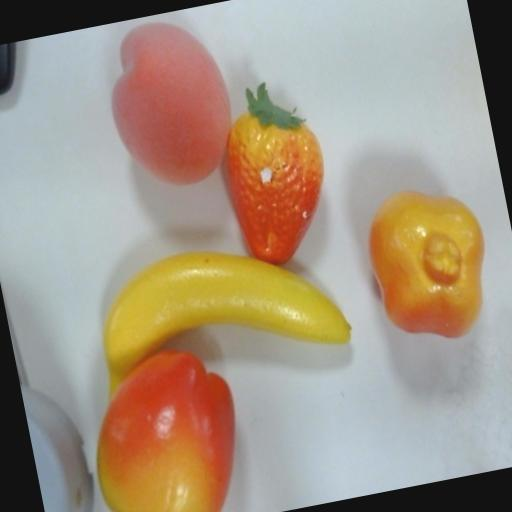Ripe: (72, 225, 358, 392), (344, 148, 512, 363), (69, 333, 264, 512), (90, 13, 244, 212), (189, 75, 345, 270)
